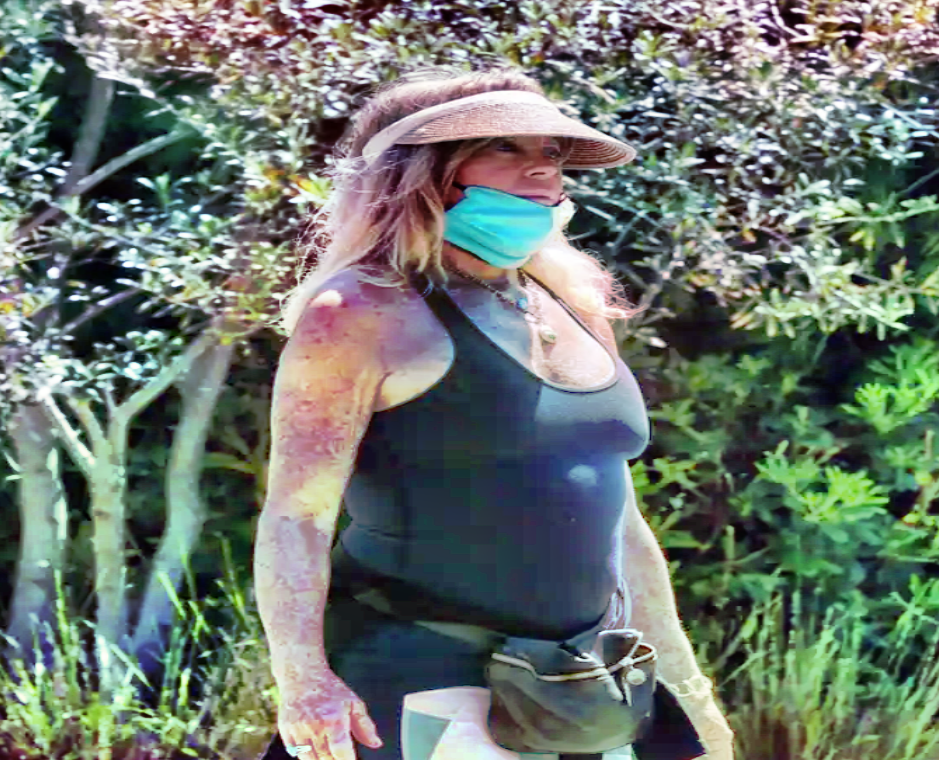mask_weared_incorrect: (346, 72, 621, 275)
